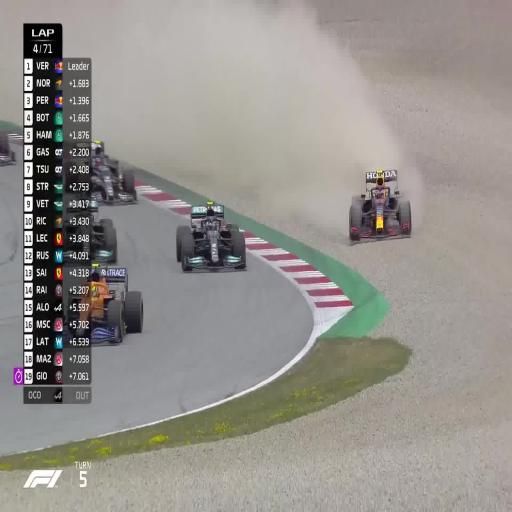f1_car: (65, 263, 143, 342), (176, 201, 246, 270), (349, 169, 411, 240), (75, 141, 137, 204), (63, 197, 117, 263), (0, 129, 15, 165), (65, 162, 80, 187)
